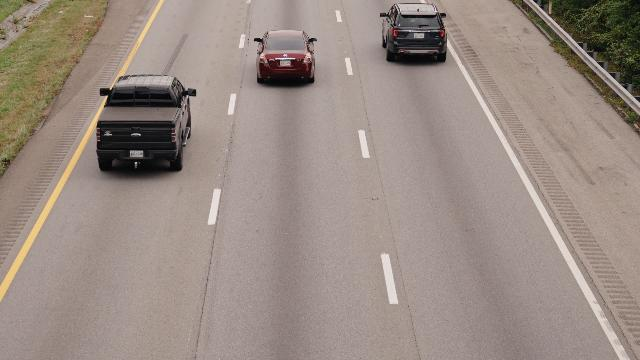car: (380, 2, 452, 64), (254, 27, 321, 86)
pickup-truck: (94, 71, 201, 171)
